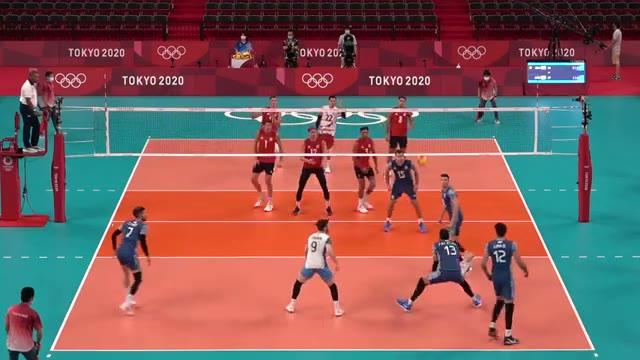ball: (419, 151, 428, 165)
